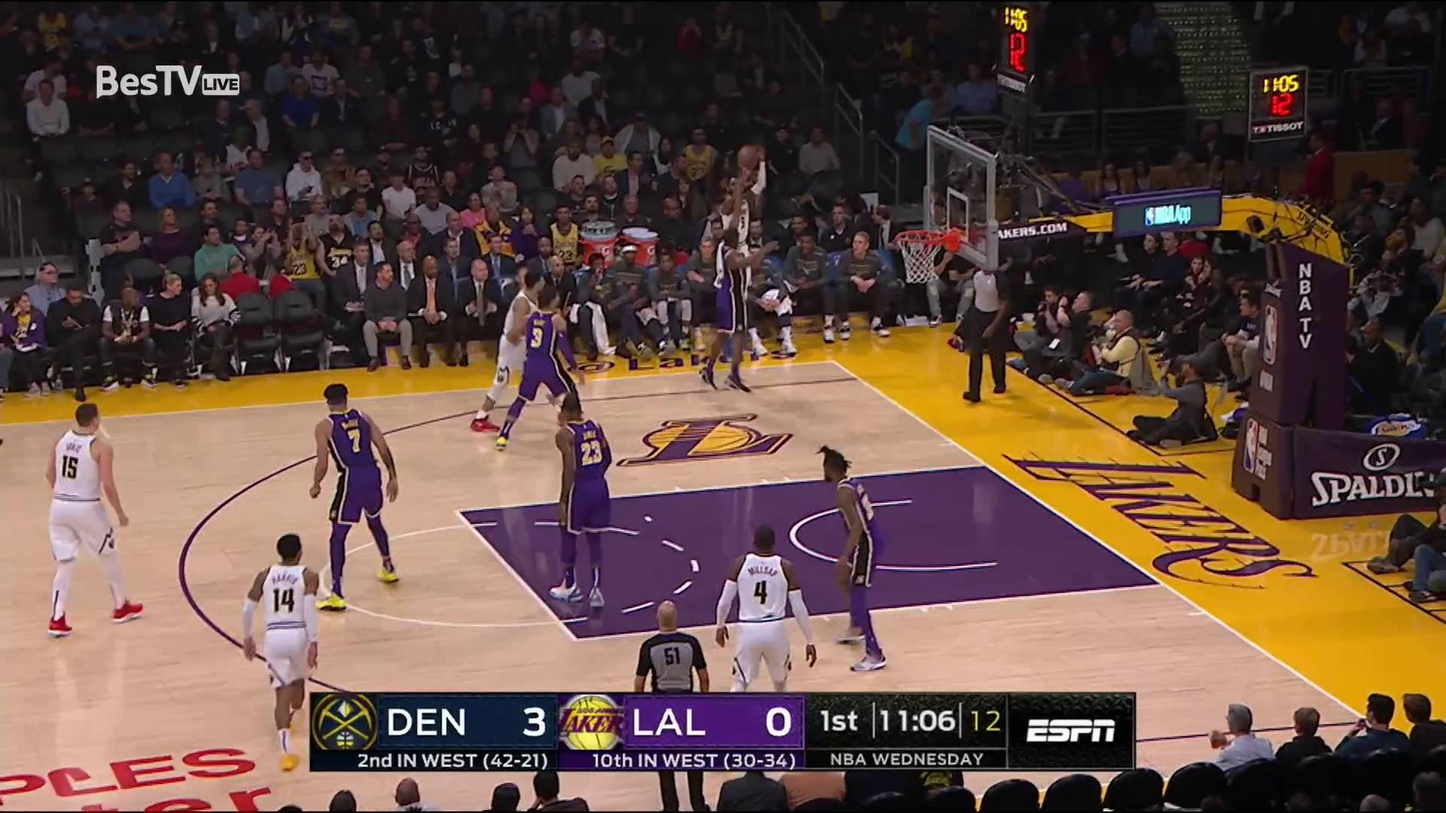basketball: (741, 145, 766, 172)
